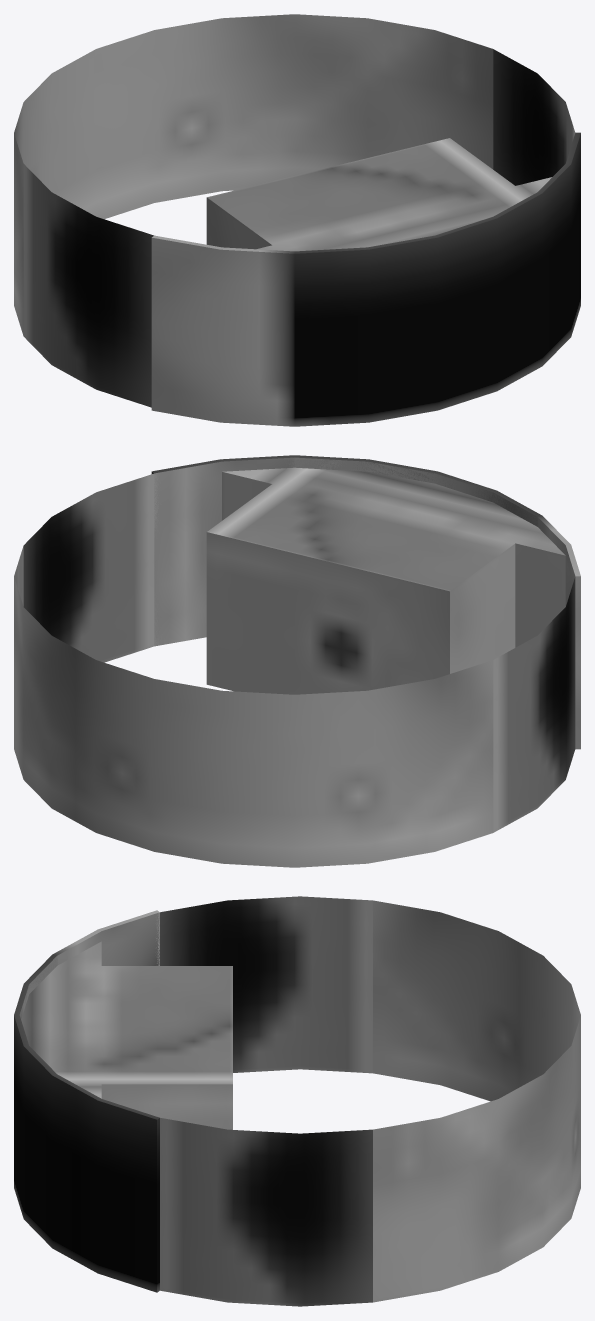
File: fuel_tank.fbx
The picture shows the model from 3 angles, top to bottom: view 1: azimuth 30°, elevation 25°; view 2: azimuth 150°, elevation 25°; view 3: azimuth 270°, elevation 25°; orthographic projection.
Parts seen in each view (by area): view 1: mesh, fairing; view 2: mesh, fairing; view 3: mesh, fairing.
Boxes of the visible parts, bbox=[...] form: mesh: bbox=[14, 14, 575, 407]; fairing: bbox=[151, 132, 580, 426]; mesh: bbox=[14, 457, 575, 867]; fairing: bbox=[151, 455, 580, 749]; mesh: bbox=[20, 896, 580, 1306]; fairing: bbox=[14, 910, 159, 1292].
Size of what is drawn, in the model's own units: 2.5 by 0.85 by 2.53.
